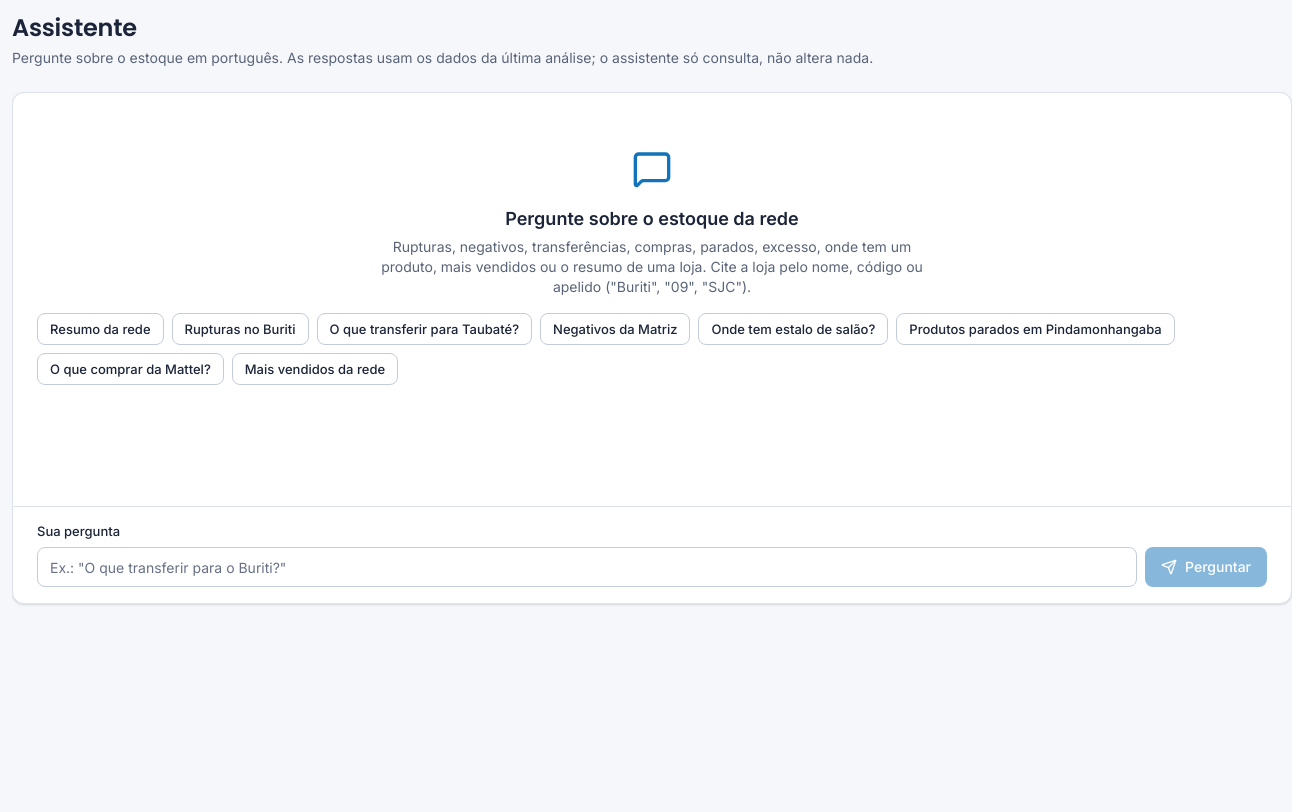
Test: AssistantPage › envia a pergunta e mostra a resposta com o que entendeu, a tabela e o link
Type "rupturas no buriti" into the field labelled "Sua pergunta" at (587, 567), box left=37, top=547, right=1137, bottom=587
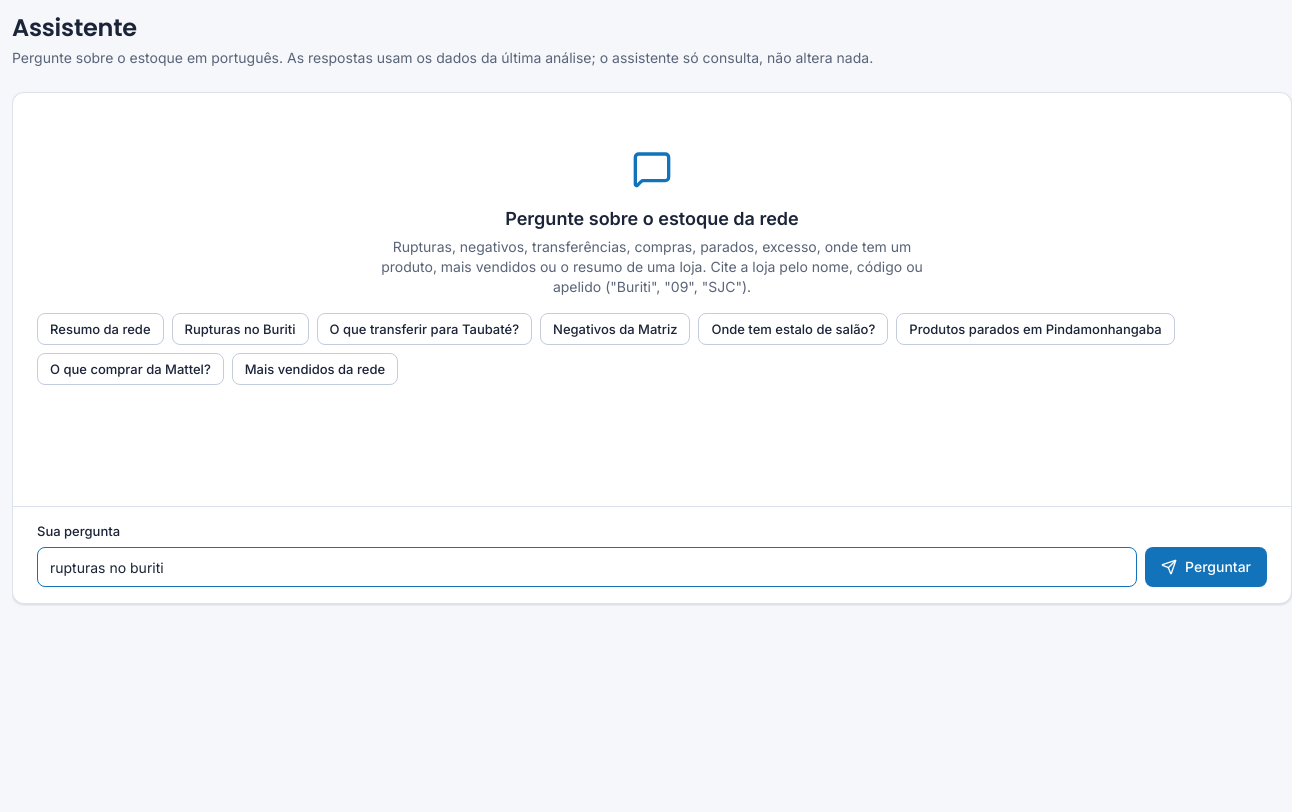
Click the button "Perguntar" at (1206, 567), box left=1145, top=547, right=1267, bottom=587
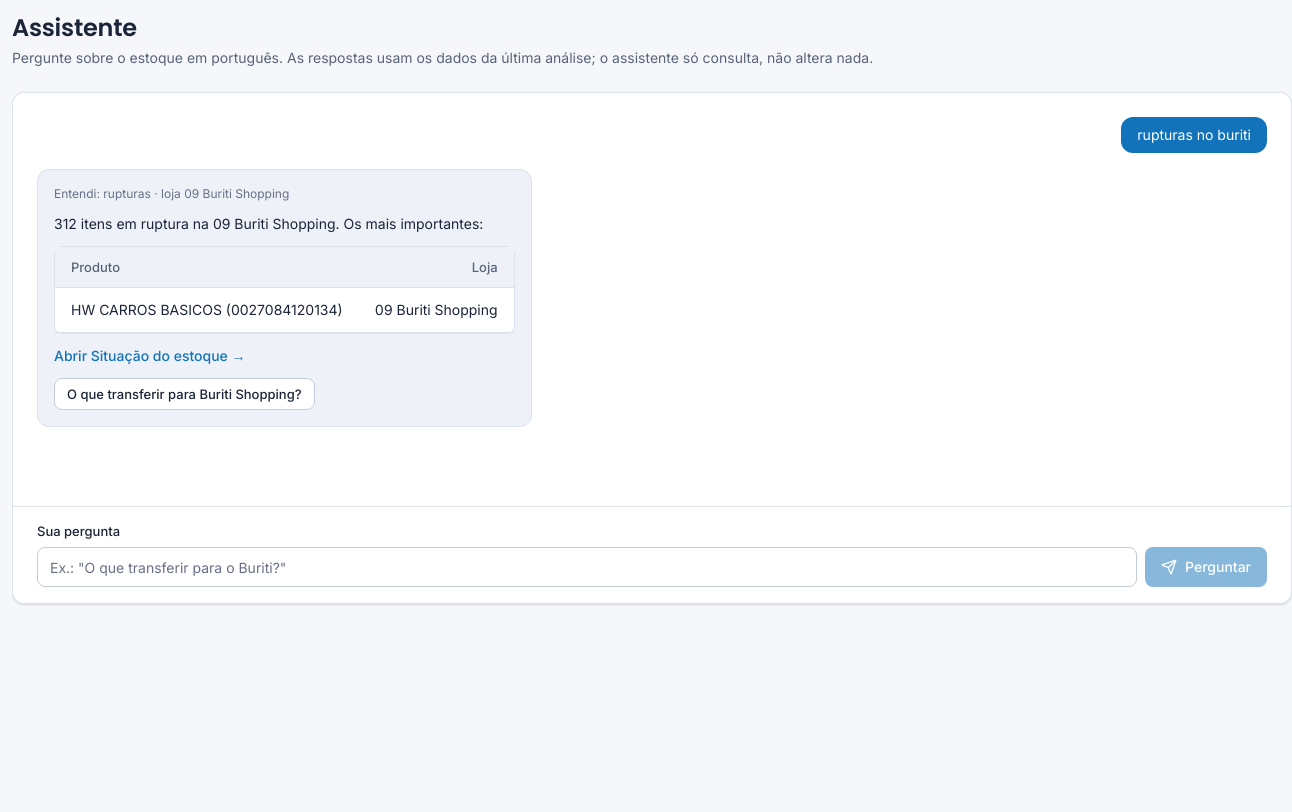
Expected: the text "Entendi: rupturas · loja 09 Buriti Shopping" is shown, left=54, top=186, right=289, bottom=201
Expected: the text "HW CARROS BASICOS (0027084120134)" is shown, left=55, top=288, right=359, bottom=332
